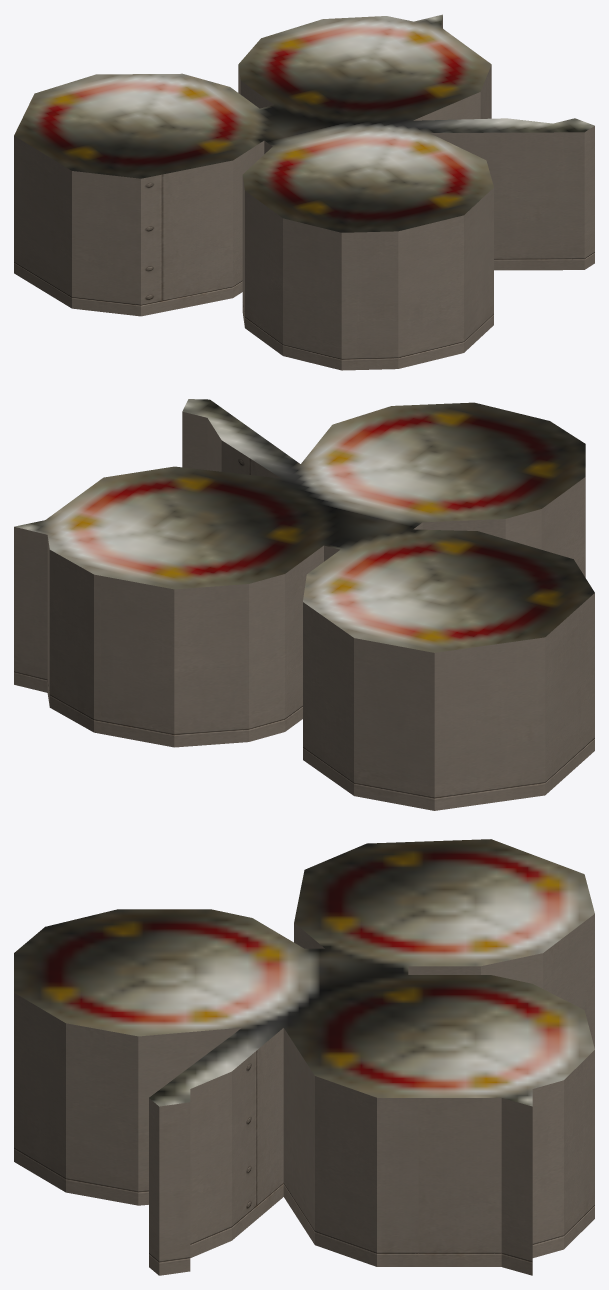
Rendered from fuel_tank_light_06.glb.
3 renders of one model, top to bottom at view 1: azimuth 30°, elevation 25°; view 2: azimuth 150°, elevation 25°; view 3: azimuth 270°, elevation 25°, orthographic. The views are drawn at different scales.
Parts seen in each view (by area): view 1: buildings/saxarba/fuel_tanks/fuel_tank_light_06; view 2: buildings/saxarba/fuel_tanks/fuel_tank_light_06; view 3: buildings/saxarba/fuel_tanks/fuel_tank_light_06.
Boxes of the visible parts, x1,y1,x2,y2 form: buildings/saxarba/fuel_tanks/fuel_tank_light_06: [14, 14, 594, 370]; buildings/saxarba/fuel_tanks/fuel_tank_light_06: [14, 399, 594, 810]; buildings/saxarba/fuel_tanks/fuel_tank_light_06: [14, 839, 594, 1275].
Size of the model in its own units: 61 by 18 by 56.
